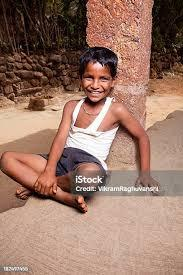Human: (3, 47, 162, 215)
